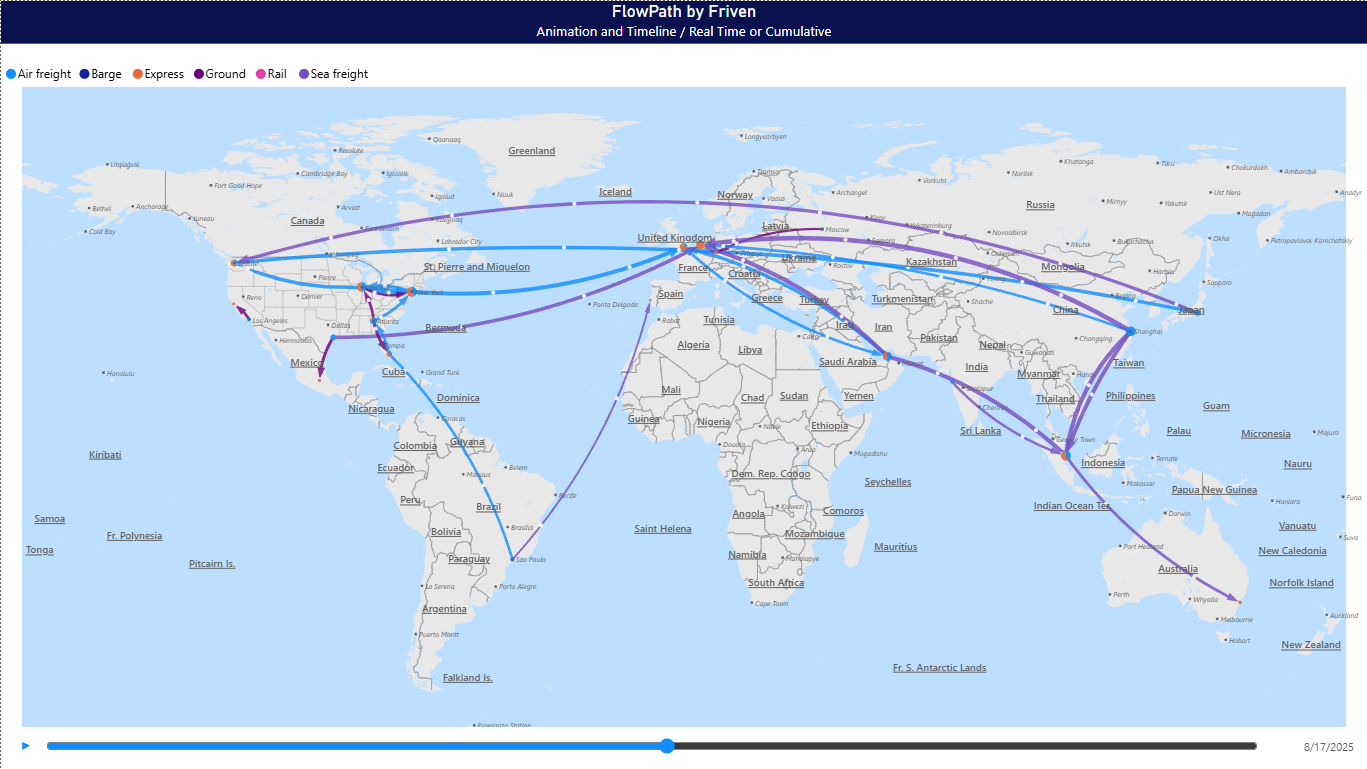

This screenshot's page, from the dashboard's own definition file:
{"tool":"powerbi","page":{"name":"Animation and Timeline","canvas":[1366,768],"ordinal":1},"visuals":[{"type":"flowMap094E8B8E0C644C80B88BA54992D66F39","title":"Flow Map by Friven","fields":{"origin":["sample-data.Origin"],"originLatitude":["sample-data.OriginLat"],"originLongitude":["sample-data.OriginLon"],"originSize":["Sum(sample-data.OriginShipments)"],"destination":["sample-data.Destination"],"destLatitude":["sample-data.DestLat"],"destLongitude":["sample-data.DestLon"],"destinationSize":["Sum(sample-data.DestShipments)"],"value":["Sum(sample-data.ArrowThickness)"],"legend":["sample-data.Category"],"routeId":["sample-data.RouteID"],"legOrder":["sample-data.LegOrder"],"time":["sample-data.Date"],"endTime":["sample-data.EndDate"]},"box":[0,0,1366,768],"z":0}]}

Visuals, with their boxes in screenshot pixels (x1, y1, x2, y2), scaled from the page's 1366x768 canvas onto the 1367x769 screenshot:
"Flow Map by Friven" flowMap094E8B8E0C644C80B88BA54992D66F39: <box>0,0,1366,768</box>
